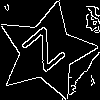Z: (21, 26, 75, 80)
